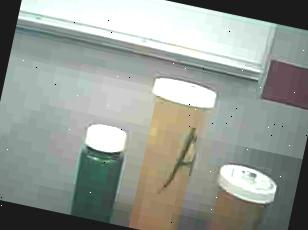Bottle A: (118, 65, 225, 230)
Bottle B: (201, 156, 279, 230)
